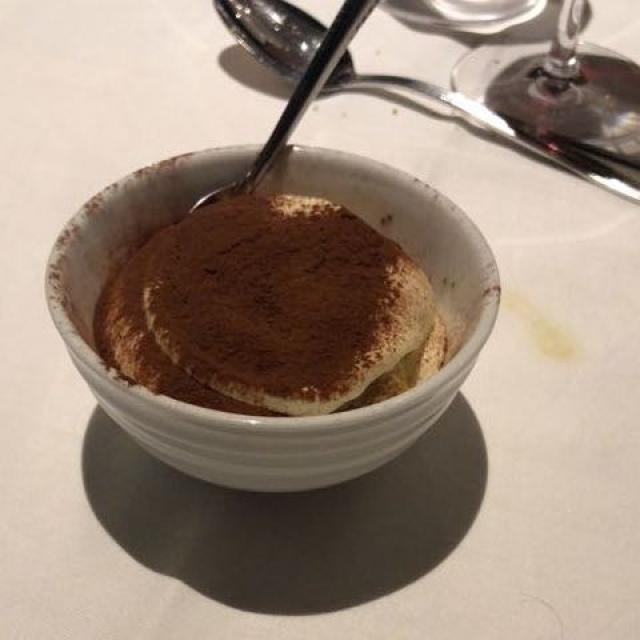tiramisu: (101, 191, 443, 413)
